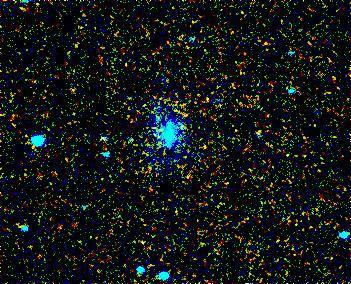star: (189, 130, 219, 160)
